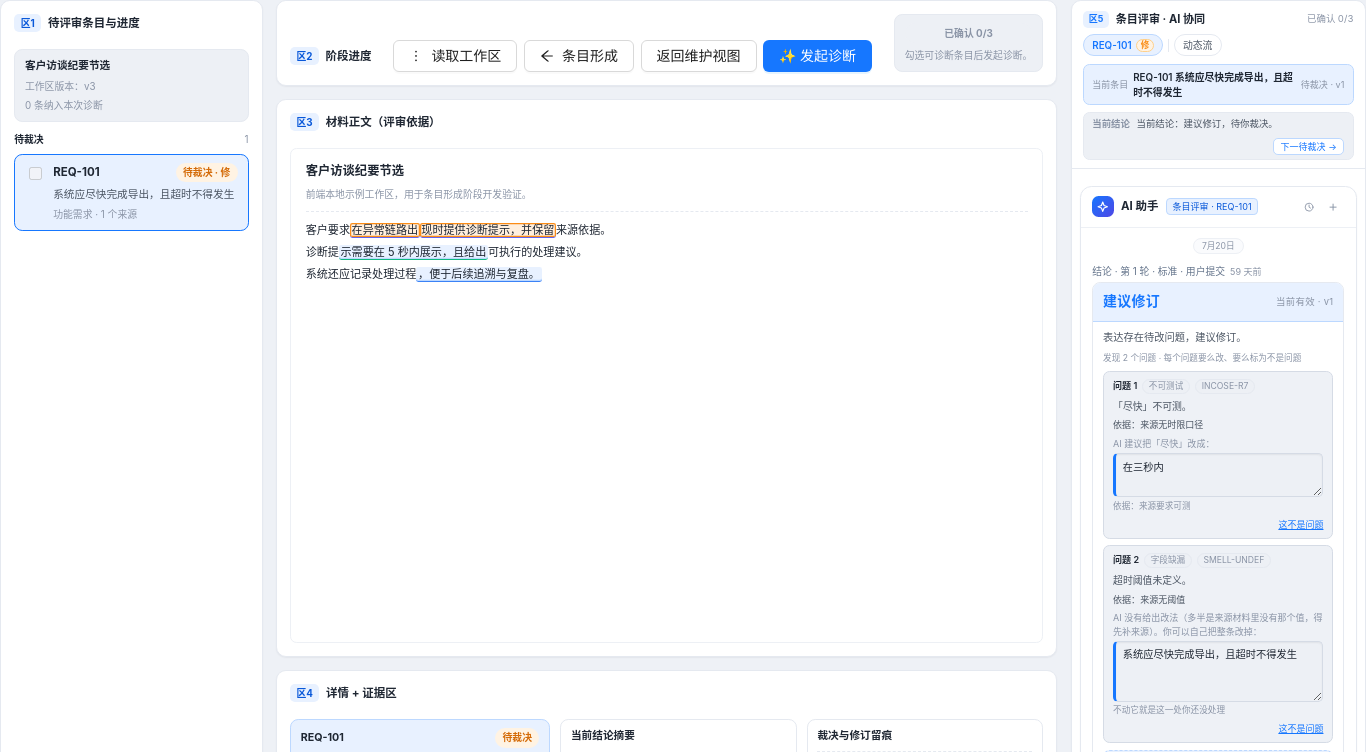
AI 没给改法的问题：整条重写 › 一旦整条重写有改动：其余输入框只读、卡面说明、按钮改口
expect the text "表达存在待改问题，建议修订。" is shown: met, box 1103,331 -> 1247,343
Replace the text in the text box with class "rv5-edit__box" below "来源无阈值" with "系统应在三秒内完成导出，且超过十秒不得发生" at point(1218, 671), box 1113,640 -> 1324,702
(page scrolled)
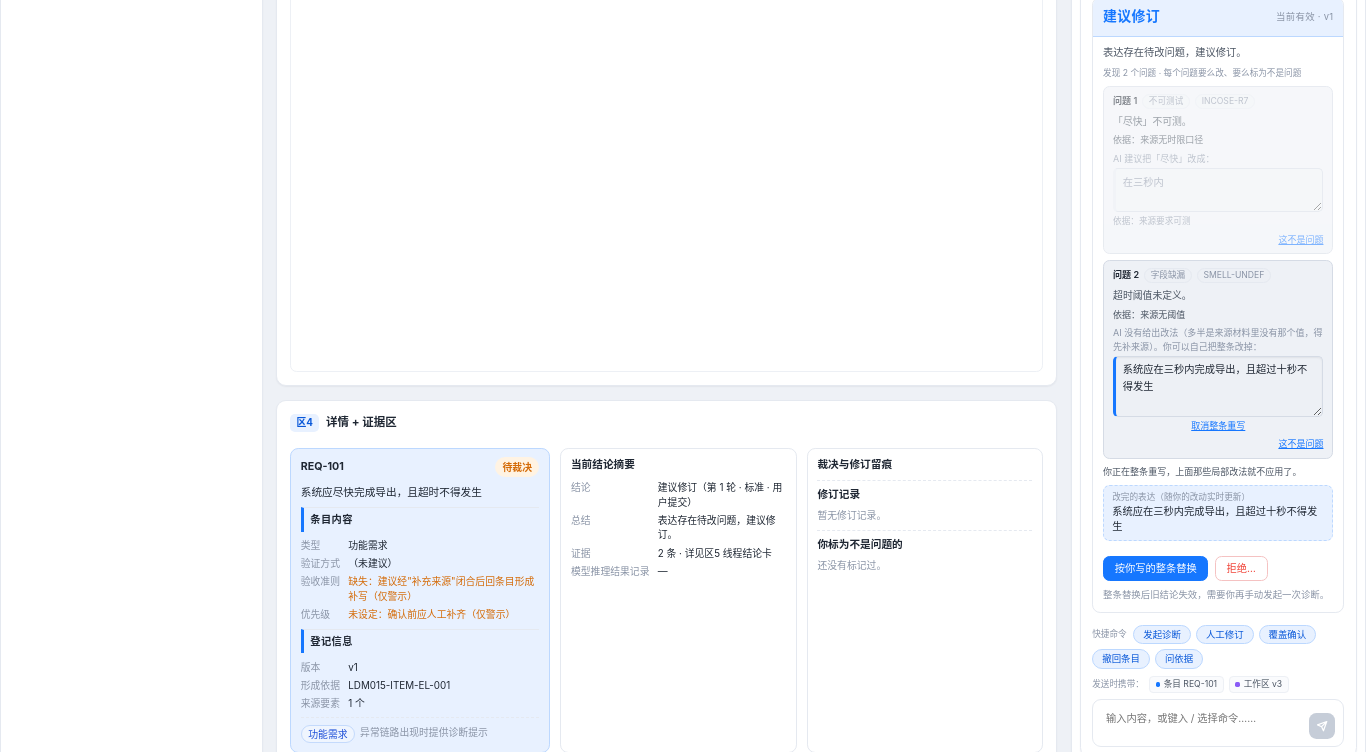
expect the button "按你写的整条替换" is enabled: met, box 1103,556 -> 1208,581
expect the text "你正在整条重写，上面那些局部改法就不应用了。" is shown: met, box 1103,465 -> 1334,479
expect the element with class "rv5-compose" shows "系统应在三秒内完成导出，且超过十秒不得发生": met, box 1112,505 -> 1317,532
